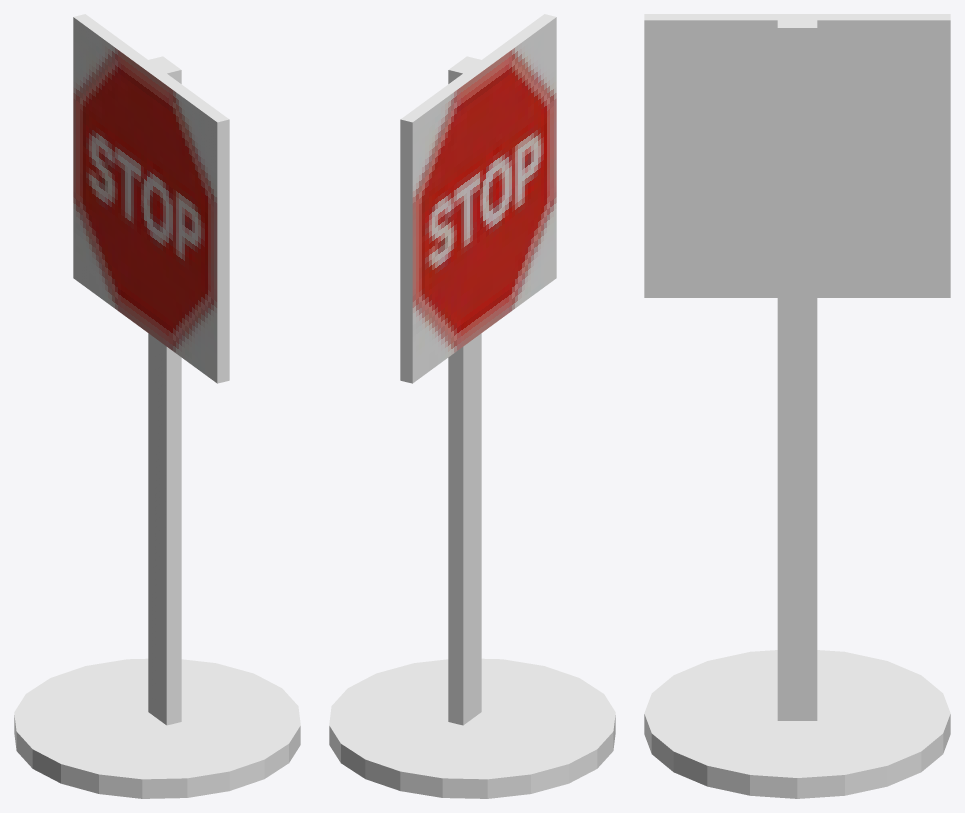
Rendered from SignStop.dae.
3 views of the same model, side by side, from view 1: azimuth 30°, elevation 25°; view 2: azimuth 150°, elevation 25°; view 3: azimuth 270°, elevation 25° (orthographic). The views are drawn at different scales.
Visible parts, largest first — view 1: SignStop; view 2: SignStop; view 3: SignStop.
Boxes of the visible parts, box(x1,y1,x2,y2) form: SignStop: box(14, 14, 300, 798); SignStop: box(329, 14, 615, 798); SignStop: box(644, 14, 950, 798).
Bounding box in the file's own units: 0.07 × 0.07 × 0.18.
